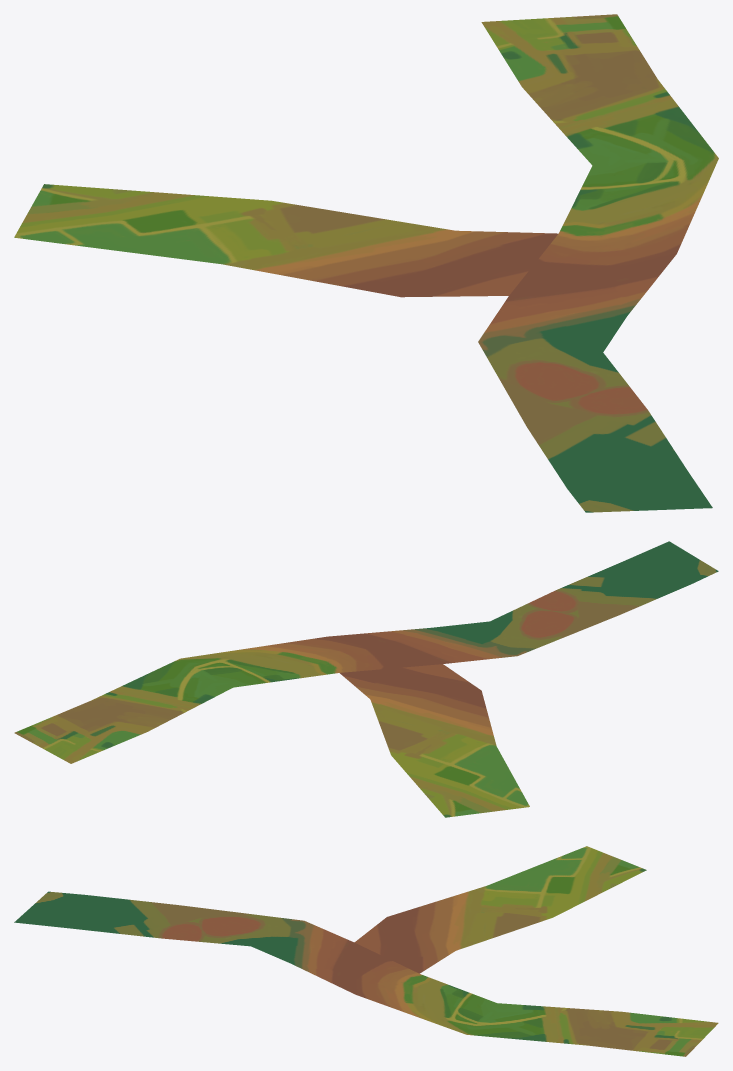
The model's file is SM_City_River.fbx.
The picture shows the model from 3 angles, top to bottom: view 1: azimuth 30°, elevation 25°; view 2: azimuth 150°, elevation 25°; view 3: azimuth 270°, elevation 25°; orthographic projection. The views are drawn at different scales.
Visible parts, largest first — view 1: SM_CityTerrain_01.001; view 2: SM_CityTerrain_01.001; view 3: SM_CityTerrain_01.001.
Part boxes in pixels (x1,y1,x2,y2): SM_CityTerrain_01.001: (14, 14, 718, 512); SM_CityTerrain_01.001: (14, 541, 718, 817); SM_CityTerrain_01.001: (14, 846, 718, 1056).
Bounding box in the file's own units: 1440 × 0.000156 × 2036.
